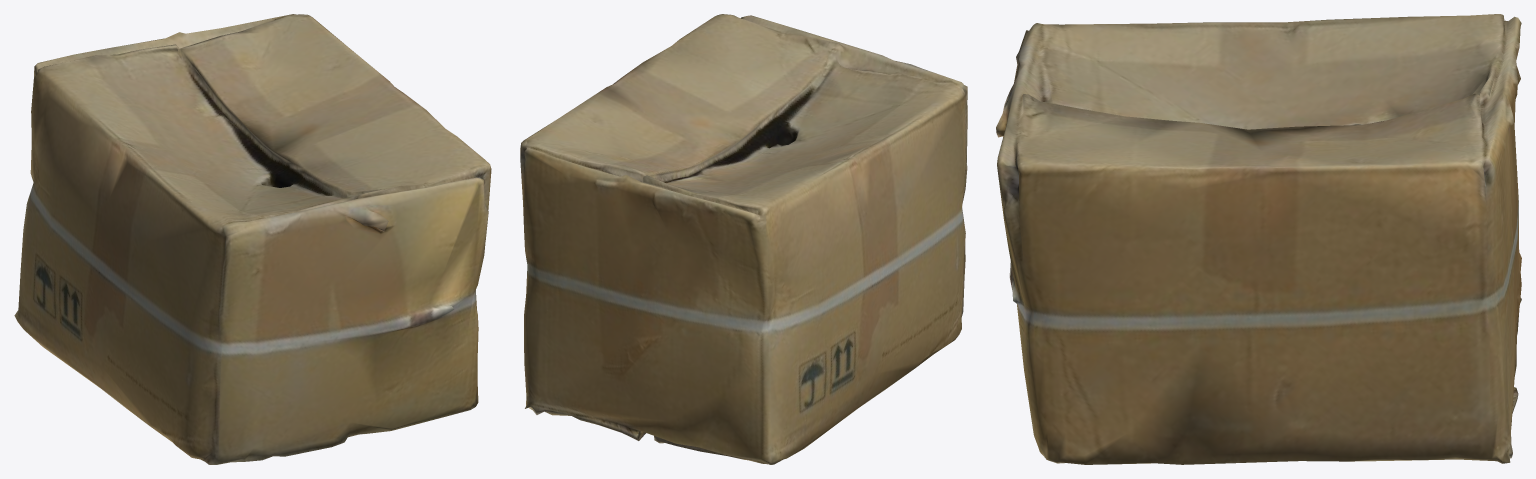
The model's file is cardboard_box_01.glb.
3 views of the same model, side by side, from view 1: azimuth 30°, elevation 25°; view 2: azimuth 150°, elevation 25°; view 3: azimuth 270°, elevation 25° (orthographic). The views are drawn at different scales.
Visible parts, largest first — view 1: cardboard_box_01; view 2: cardboard_box_01; view 3: cardboard_box_01.
Part boxes in pixels (x1,y1,x2,y2): cardboard_box_01: [14, 14, 491, 464]; cardboard_box_01: [520, 14, 967, 464]; cardboard_box_01: [996, 14, 1521, 464].
Bounding box in the file's own units: 0.3864 × 0.3418 × 0.5159.
1 material, 1 textured.
